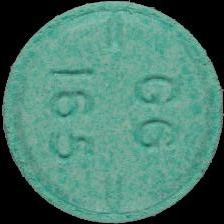54868-2679: (0, 0, 224, 224)
